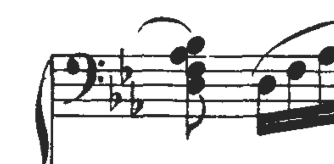bass_clef: (61, 48, 107, 108)
flat: (112, 44, 138, 86), (127, 80, 148, 122), (105, 73, 124, 116)
